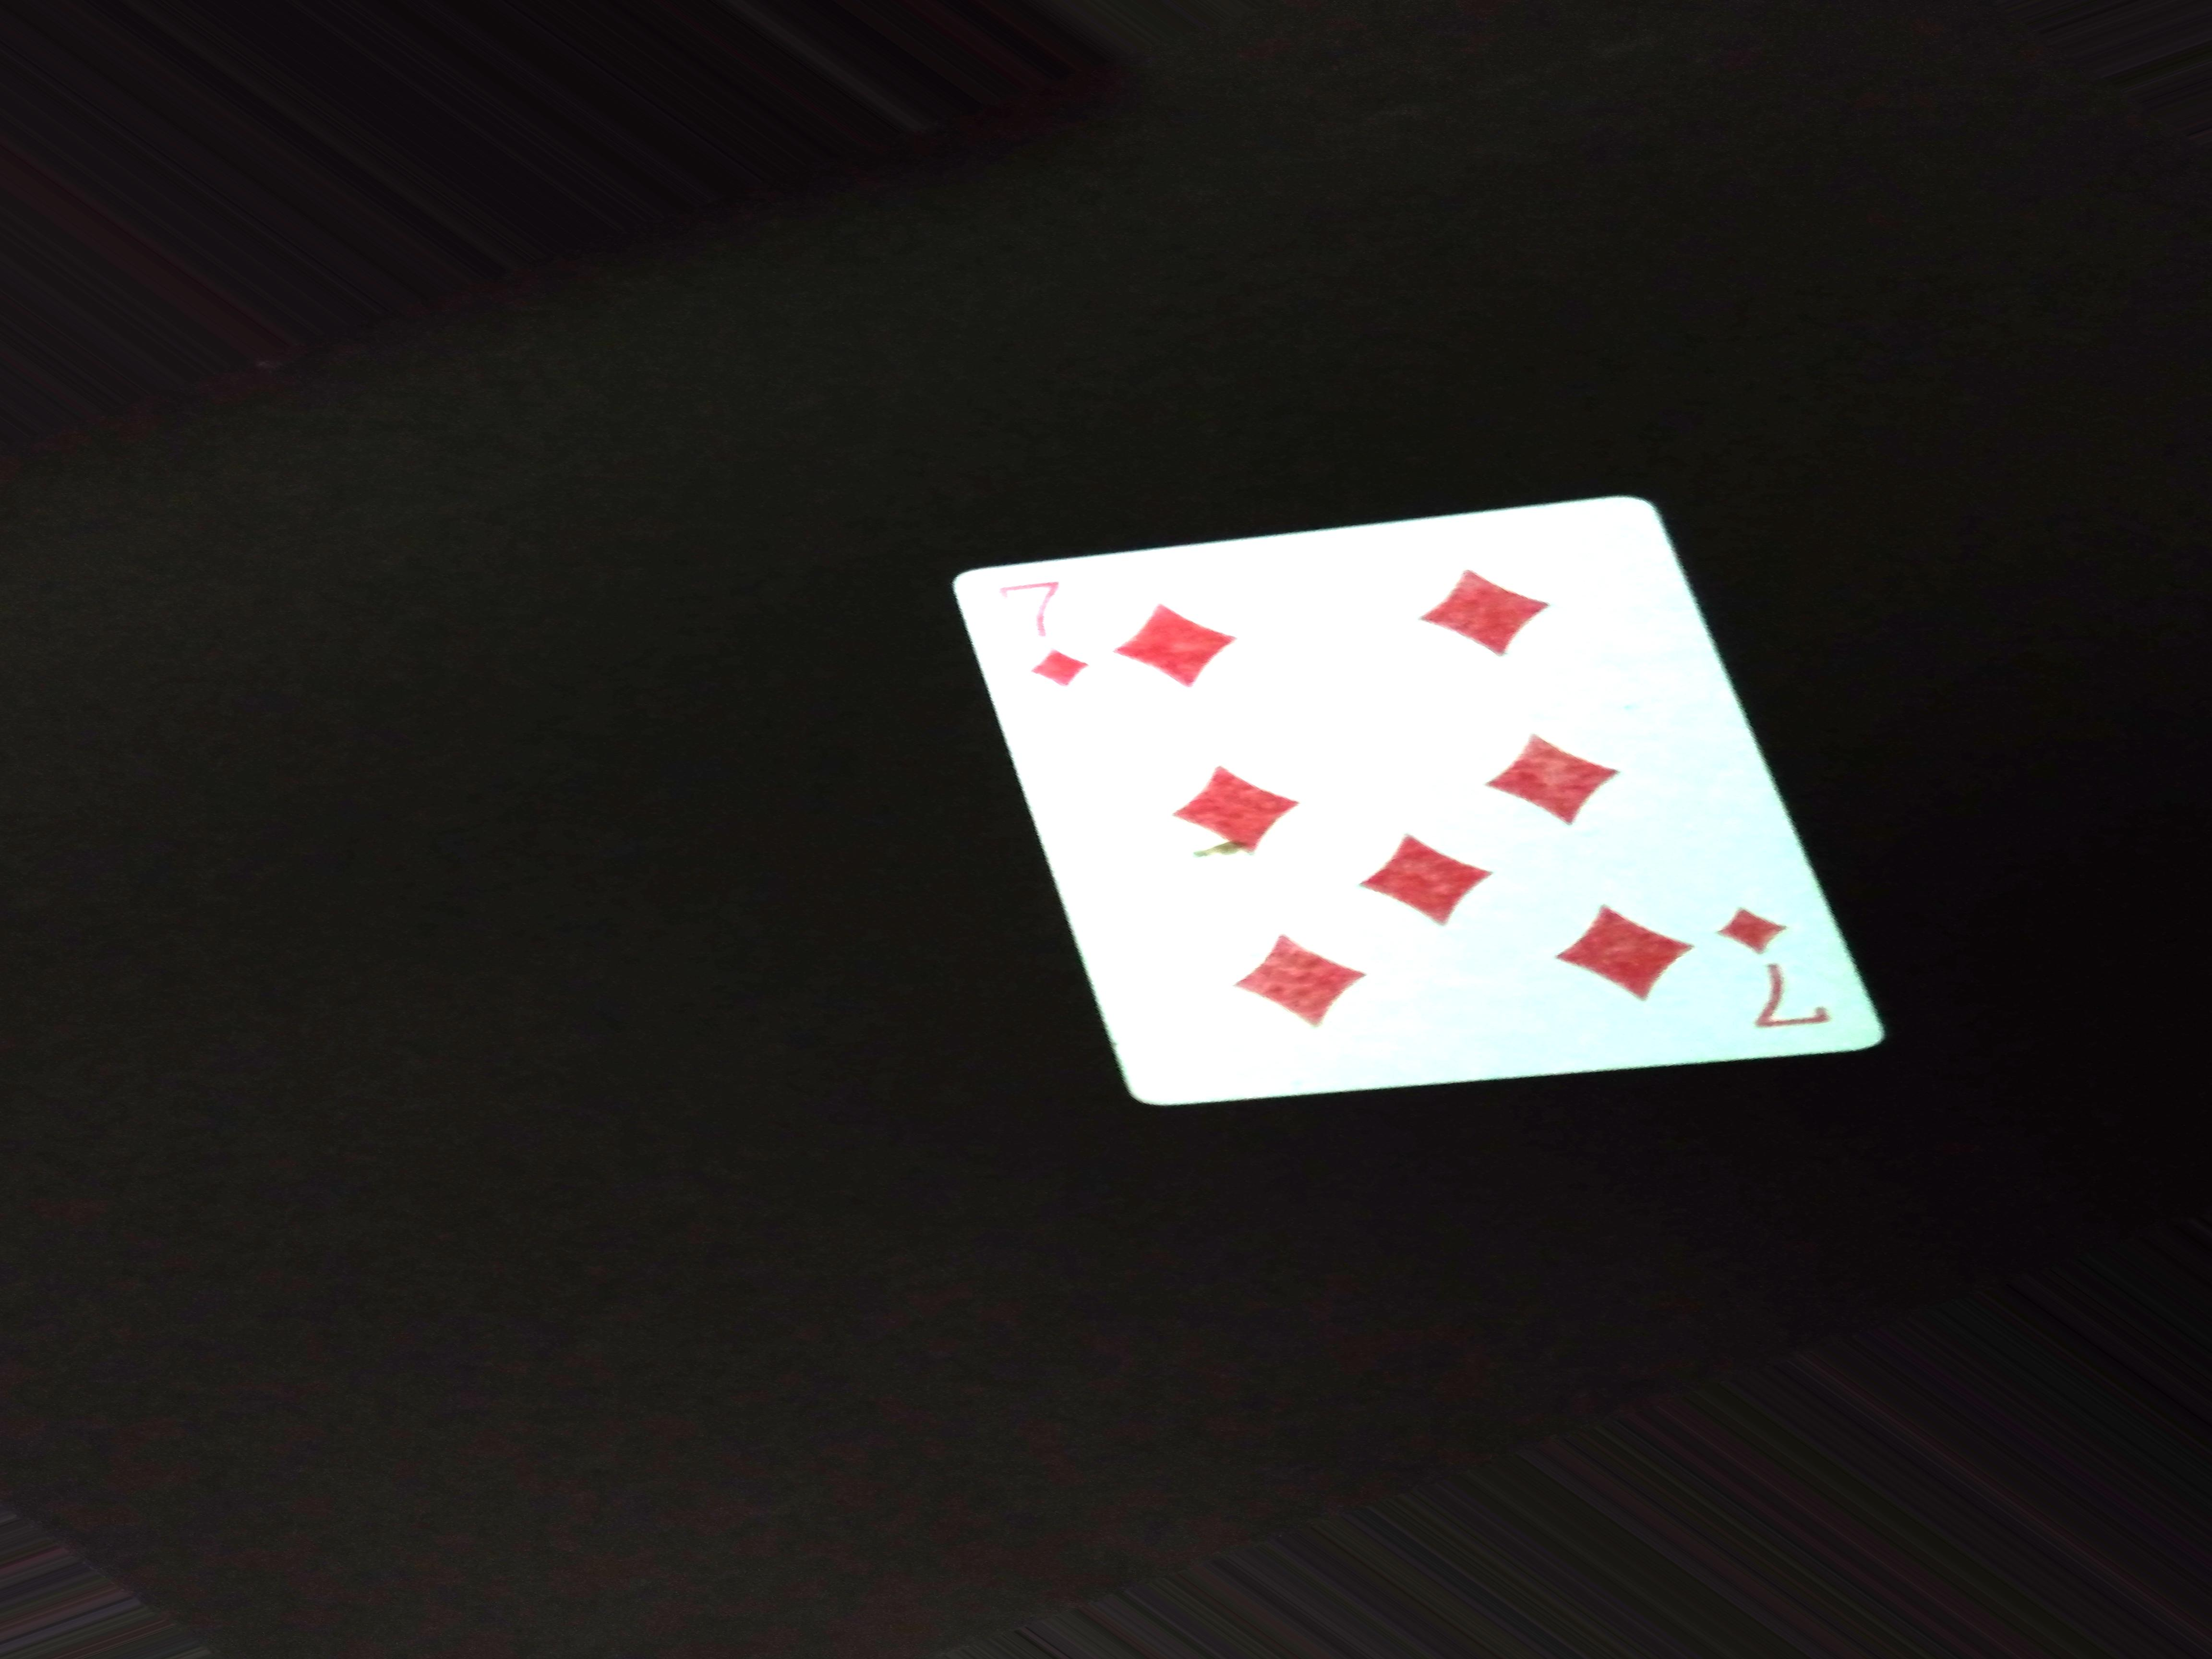7D: (1712, 889, 1829, 1047)
